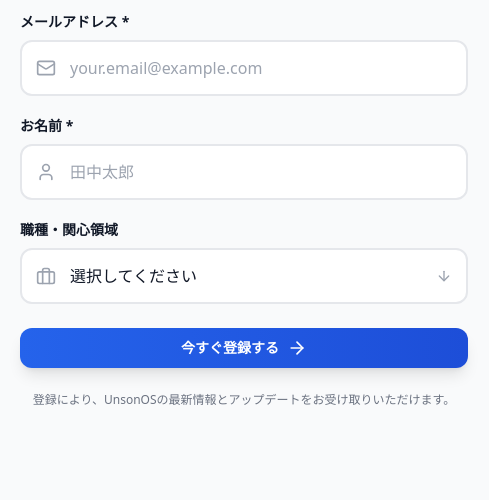
Form-API Integration Tests › Error Handling Integration › should handle network errors
Type "network@example.com" into the field labelled "メールアドレス *".
click(244, 68); type("network@example.com")  # box [20,40,468,96]
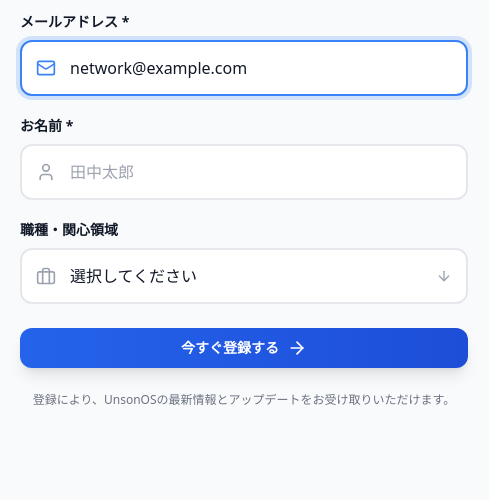
Type "ネットワークユーザー" into the field labelled "お名前 *".
click(244, 172); type("ネットワークユーザー")  # box [20,144,468,200]
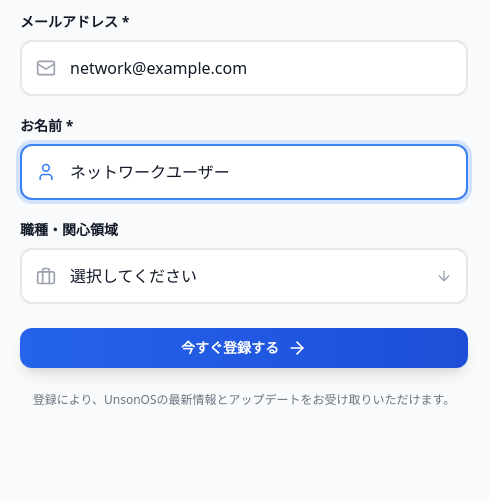
Click the button "今すぐ登録する".
click(244, 348)  # box [20,328,468,368]
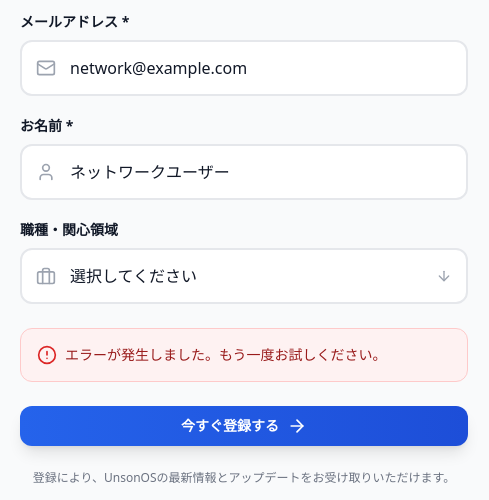
Expected: the text "エラーが発生しました。もう一度お試しください。" is shown, [65,345,387,365]
